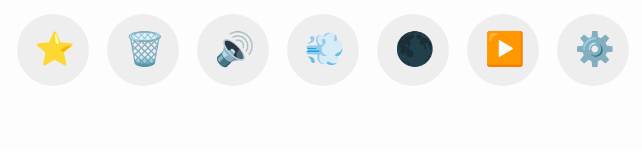
DoodleCanvas › mode toggle flips its label/icon and persists the preference
This screenshot has width=642, height=160.
Click the button named "Switch to draw mode" at (52, 50), box [16,14,88,86]
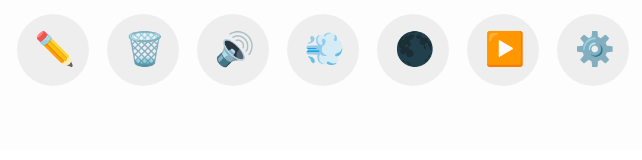
Expected: the button named "Switch to shape mode" is shown
Click the button named "Switch to shape mode" at (52, 50), box [16,14,88,86]
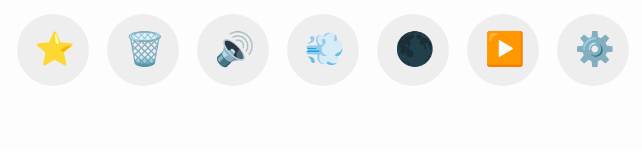
Expected: the button named "Switch to draw mode" is shown, [16,14,88,86]
